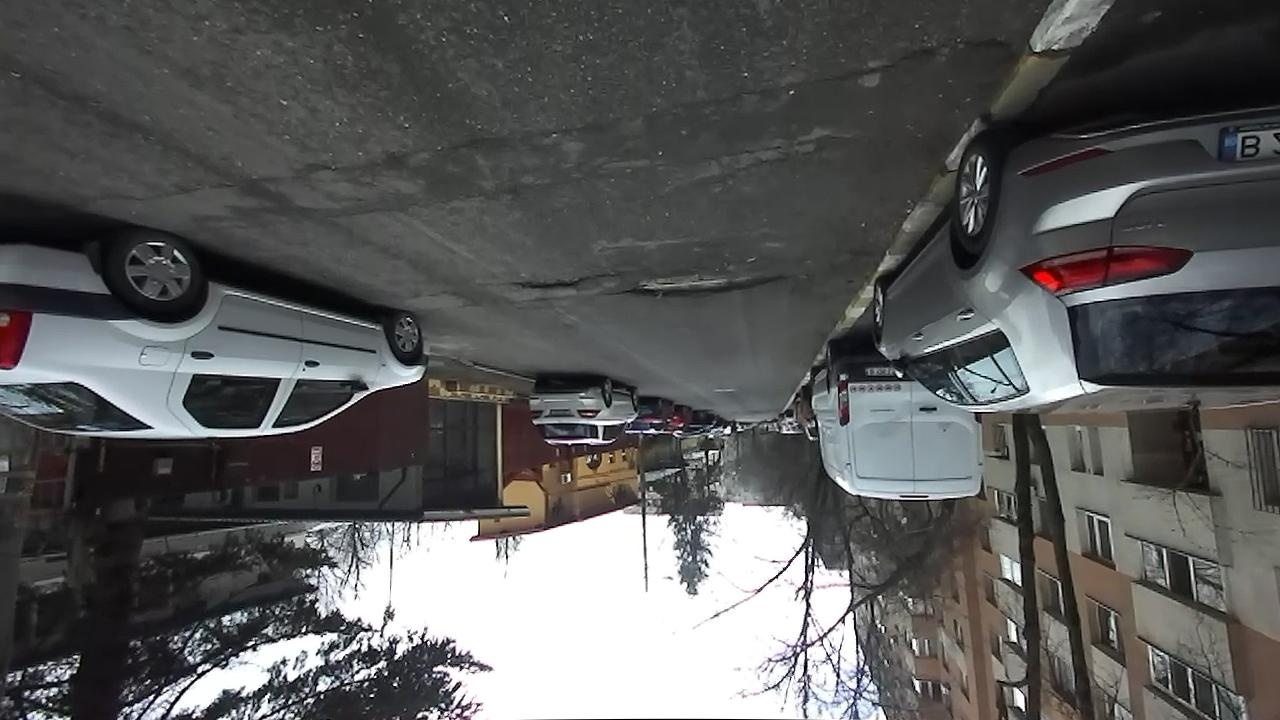pothole: (837, 26, 1002, 85), (605, 267, 786, 301), (507, 269, 592, 292)
